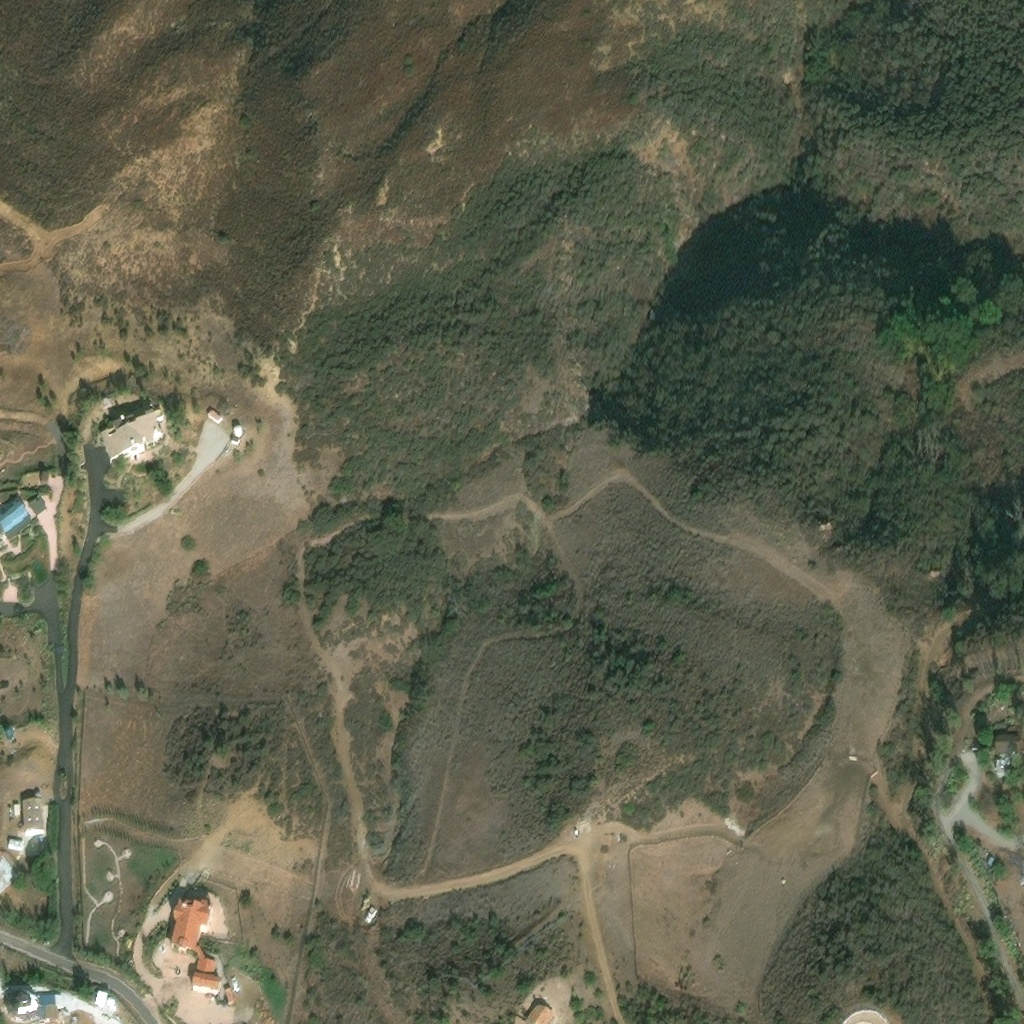0 no-damage: (168, 900, 221, 995), (97, 410, 170, 469), (3, 983, 57, 1023), (0, 504, 28, 538), (21, 799, 44, 836), (522, 1004, 555, 1023), (994, 735, 1021, 758), (28, 498, 47, 519), (205, 409, 223, 426), (230, 427, 243, 448), (1, 727, 15, 745), (222, 990, 235, 1009), (7, 839, 24, 852), (95, 991, 108, 1008), (40, 472, 48, 485), (987, 858, 995, 869), (13, 806, 20, 817)
3 destroyed: (723, 816, 748, 837)
4 un-classified: (0, 858, 21, 892), (383, 883, 404, 895), (375, 894, 393, 907), (409, 884, 426, 895)
